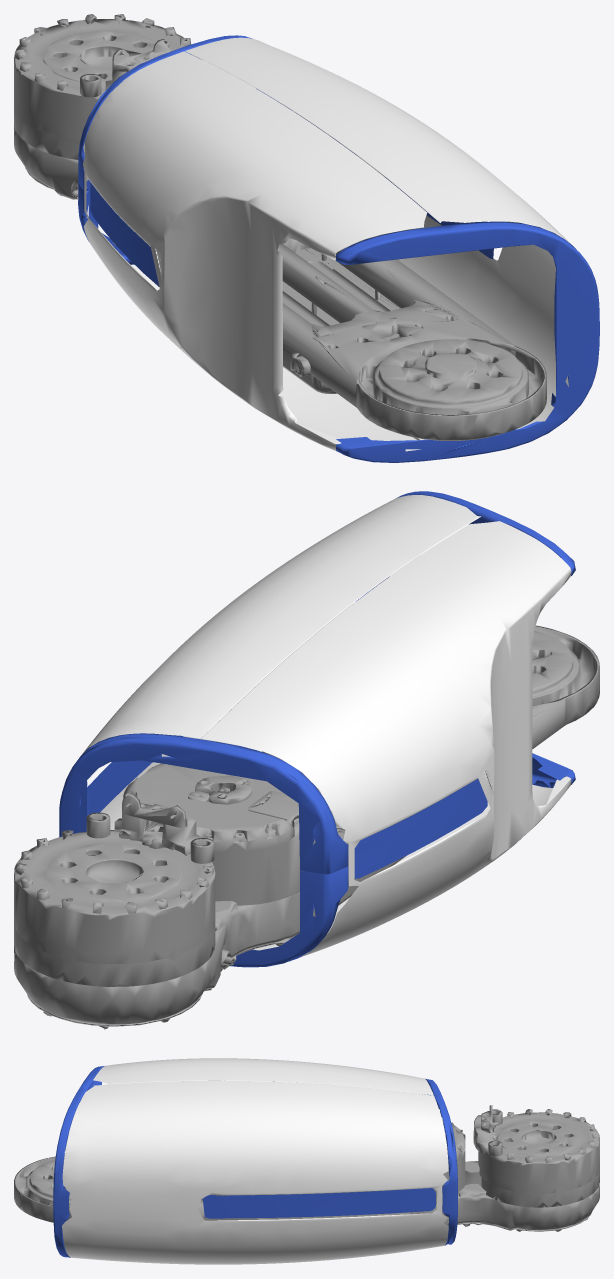
Rendered from sim_ecub_1-1_l_lower_leg.obj.
3 views of the same model, one above another, from view 1: azimuth 30°, elevation 25°; view 2: azimuth 150°, elevation 25°; view 3: azimuth 270°, elevation 25° (orthographic). The views are drawn at different scales.
Bounding box in the file's own units: 153 × 126 × 408.
